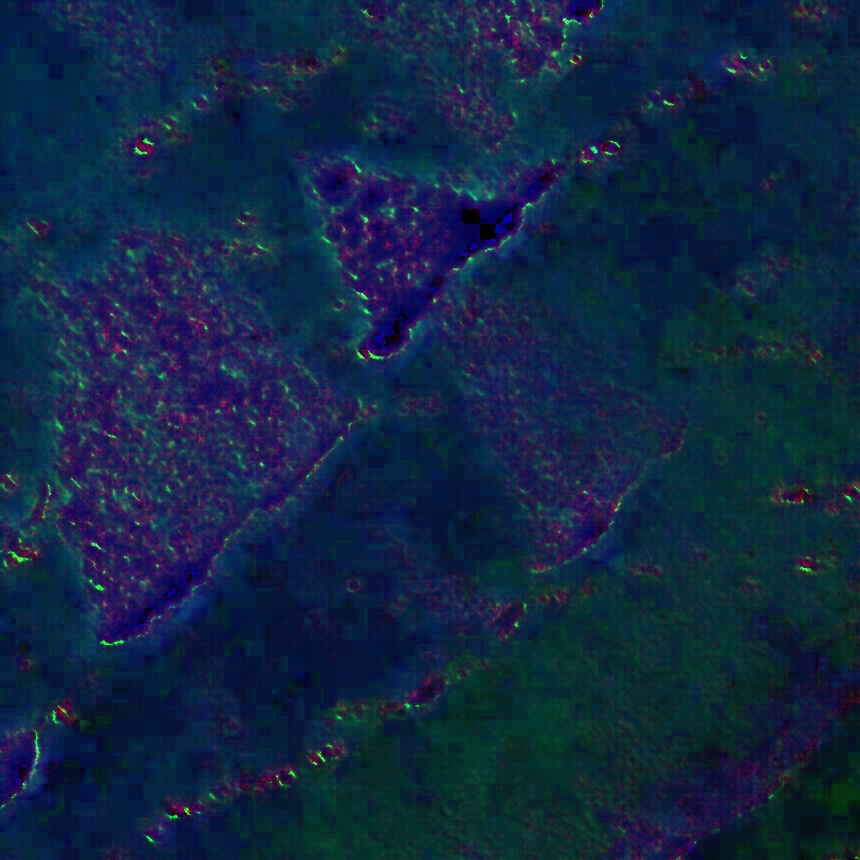rip_current: (221, 227, 528, 556)
